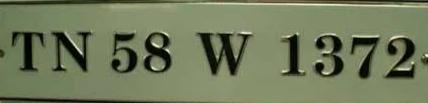1: (274, 24, 308, 83)
2: (384, 27, 420, 88)
3: (310, 25, 348, 86)
5: (106, 21, 142, 84)
7: (347, 31, 383, 81)
8: (140, 25, 175, 79)
N: (49, 24, 94, 81)
T: (8, 25, 48, 79)
W: (192, 25, 256, 83)
